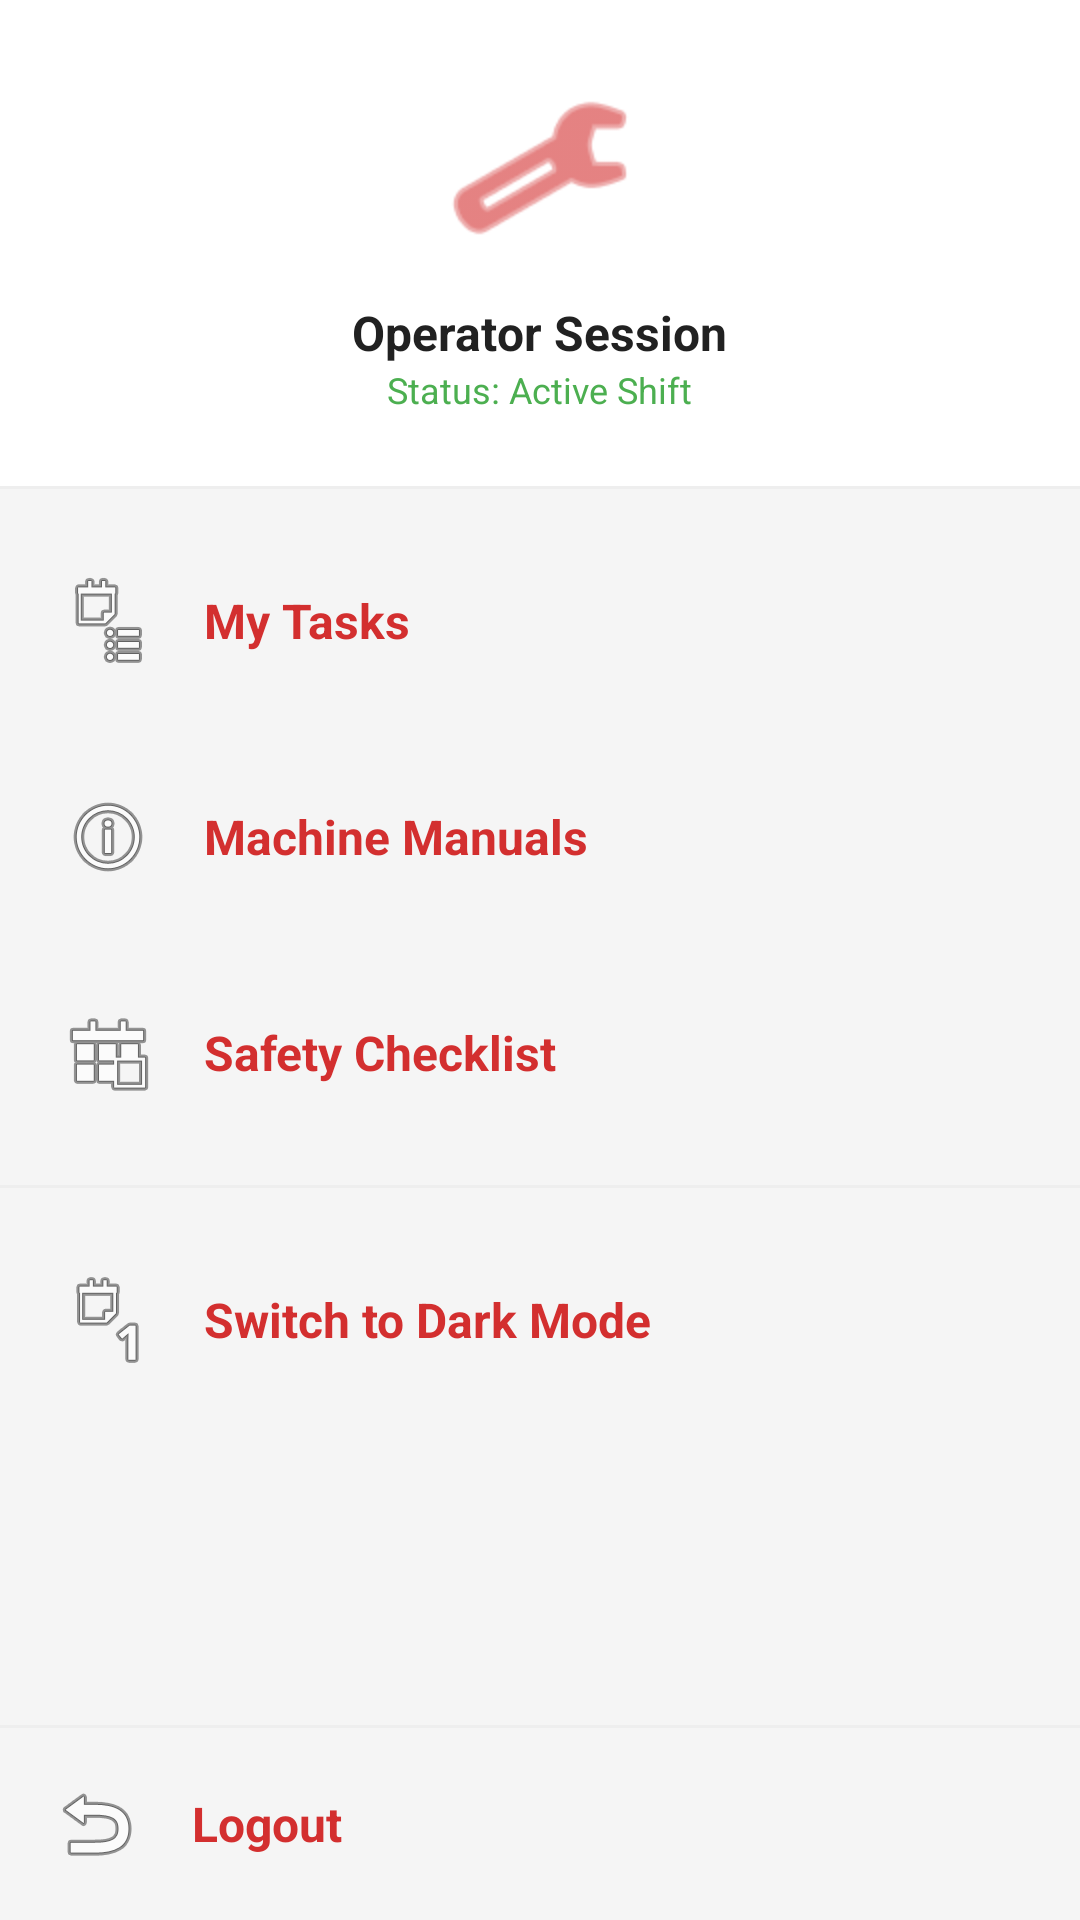

Named icons in this screenshot (1080*1920) and their centers, (x,y):
manage: (540,168)
